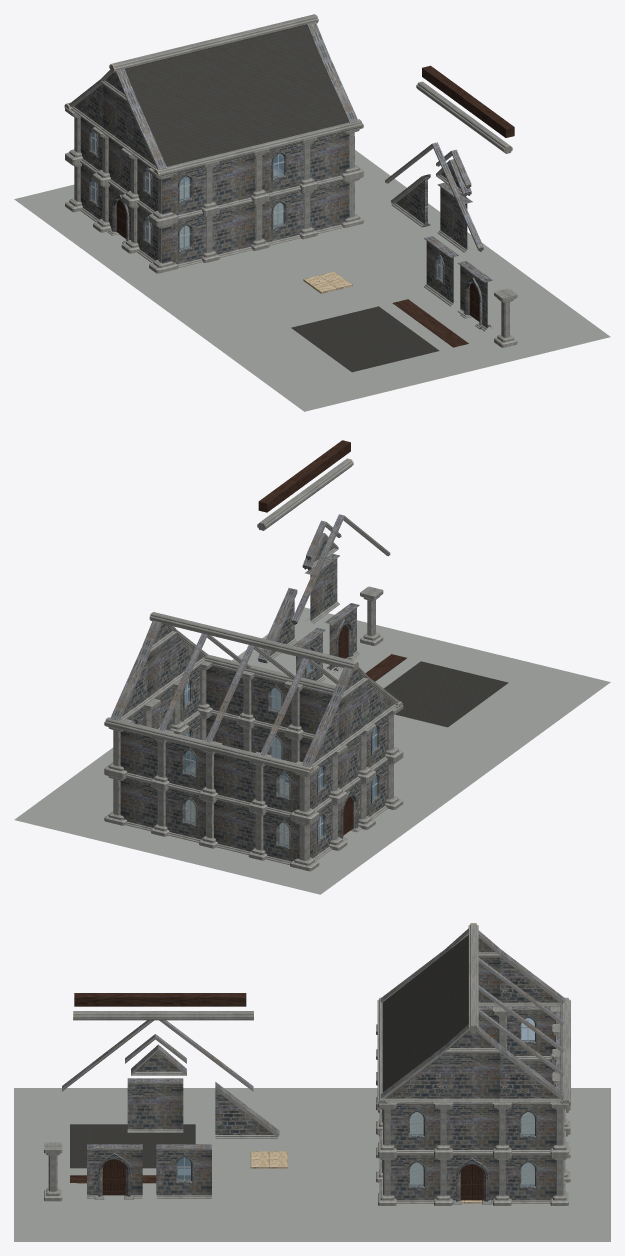
Rendered from Unity2Skfb.gltf.
3 renders of one model, top to bottom at view 1: azimuth 30°, elevation 25°; view 2: azimuth 150°, elevation 25°; view 3: azimuth 270°, elevation 25°, orthographic. The views are drawn at different scales.
Visible parts, largest first — view 1: Plane, Roof_Tile (2), Roof_Tile, Window (×2), Wall (2), Wall (6), Rock_Moulding (3), Wall (4), Window (5), Wall (8), Window (6), Rock_Moulding (1) (+21 smaller); view 2: Plane, Roof_Tile, Rock_Moulding (3), Rock_Moulding (2), Wall (1), Wall (5), Wall (3), Window (×2), Window (3), Wall (7), Wood_Beam, Window (11) (+32 smaller); view 3: Plane, Roof_Tile (2), Wall, Doorway (×2), Roof_Tile, Window, Wall (12), Wall (10), Wood_Beam, Window (16), Window (8), Window (15) (+30 smaller).
Boxes of the visible parts, x1,y1,x2,y2 form: Plane: (14,150,610,411); Roof_Tile (2): (125,25,348,166); Roof_Tile: (291,306,439,372); Window (×2): (137,158,458,306); Wall (2): (212,201,255,257); Wall (6): (212,154,255,208); Rock_Moulding (3): (109,14,318,72); Wall (4): (302,179,349,233); Window (5): (162,213,205,267); Wall (8): (302,132,349,184); Window (6): (262,189,302,245); Rock_Moulding (1): (153,119,362,176); Plane: (14,607,610,894); Roof_Tile: (384,661,508,727); Rock_Moulding (3): (149,612,358,670); Rock_Moulding (2): (104,717,313,775); Wall (1): (213,798,255,854); Wall (5): (213,753,255,805); Wall (3): (120,776,166,831); Window (×2): (293,627,387,769); Window (3): (166,786,205,842); Wall (7): (120,730,166,781); Wood_Beam: (258,440,350,512); Window (11): (166,741,205,793); Plane: (14,1088,610,1241); Roof_Tile (2): (382,935,468,1092); Wall: (127,1078,183,1132); Doorway (×2): (87,1144,498,1203); Roof_Tile: (70,1124,195,1168); Window: (156,1144,211,1198); Wall (12): (445,1052,500,1102); Wall (10): (446,1102,498,1153); Wood_Beam: (74,993,246,1006); Window (16): (505,1102,555,1153); Window (8): (505,1153,555,1203); Window (15): (390,1102,439,1153).
Size of the model in its own units: 19.62 by 12.56 by 32.19.
4 materials, 2 textured.
